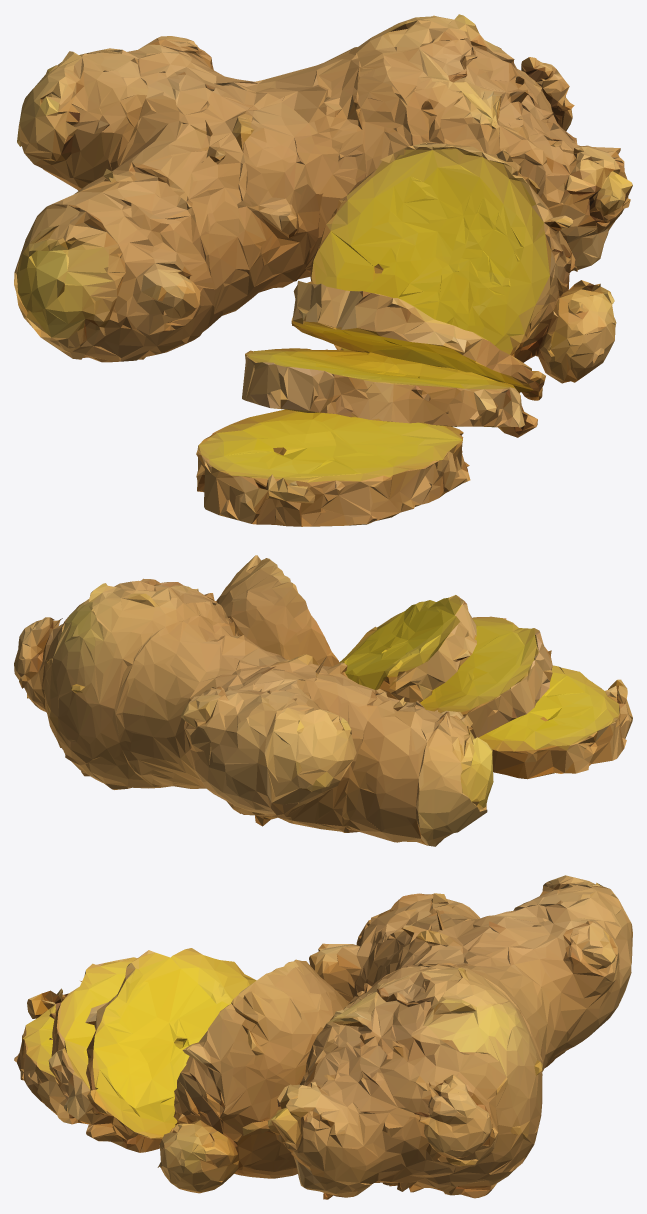
Rendered from ginger.glb.
The picture shows the model from 3 angles, top to bottom: view 1: azimuth 30°, elevation 25°; view 2: azimuth 150°, elevation 25°; view 3: azimuth 270°, elevation 25°; orthographic projection. The views are drawn at different scales.
Visible parts, largest first — view 1: geometry_0; view 2: geometry_0; view 3: geometry_0.
Part boxes in pixels (left/top/right/bottom): geometry_0: left=14, top=14, right=632, bottom=526; geometry_0: left=14, top=555, right=632, bottom=846; geometry_0: left=14, top=875, right=632, bottom=1199.
Size of the model in its own units: 0.091 by 0.0403 by 0.1.
1 material, 1 textured.
